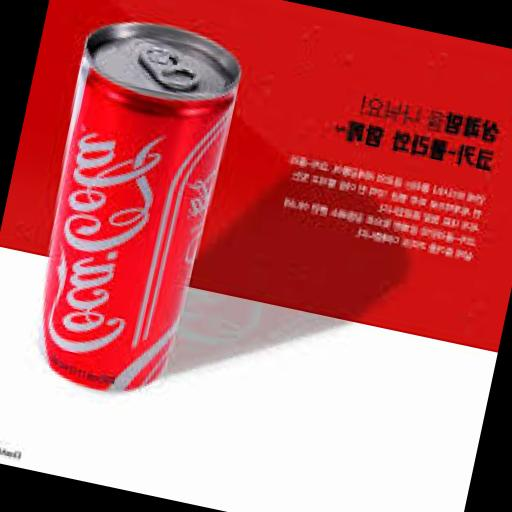Coca: (15, 8, 258, 411)
